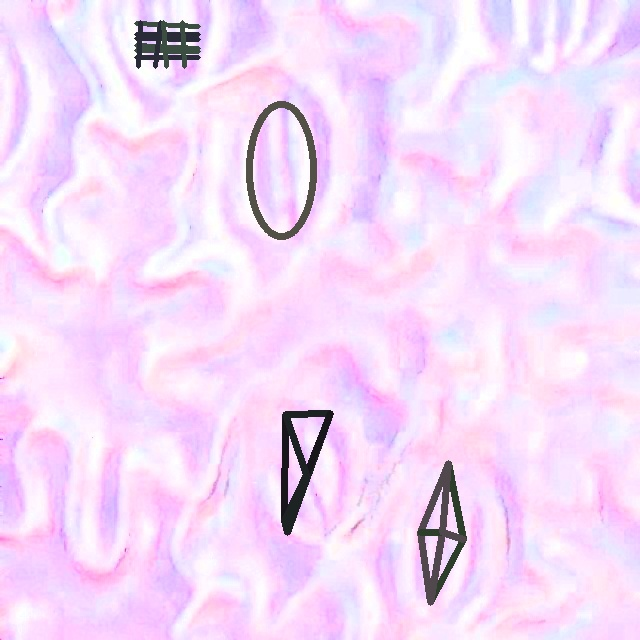open: (245, 100, 317, 241), (417, 460, 466, 605), (281, 412, 332, 535), (134, 20, 200, 67)
